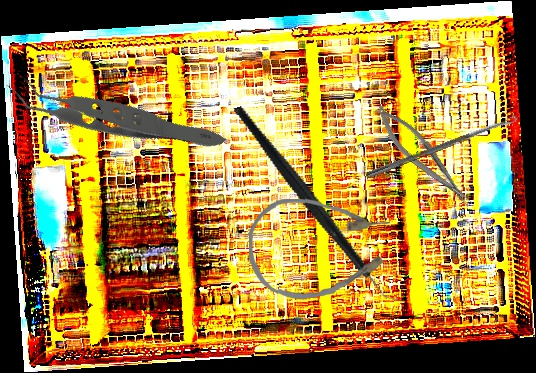Cannula: (247, 195, 393, 301)
Chopper: (231, 75, 409, 336)
Needle Holder: (368, 97, 478, 217)
Surgical Spoon: (365, 115, 518, 180)
Tissue Forceps: (2, 0, 228, 224)
